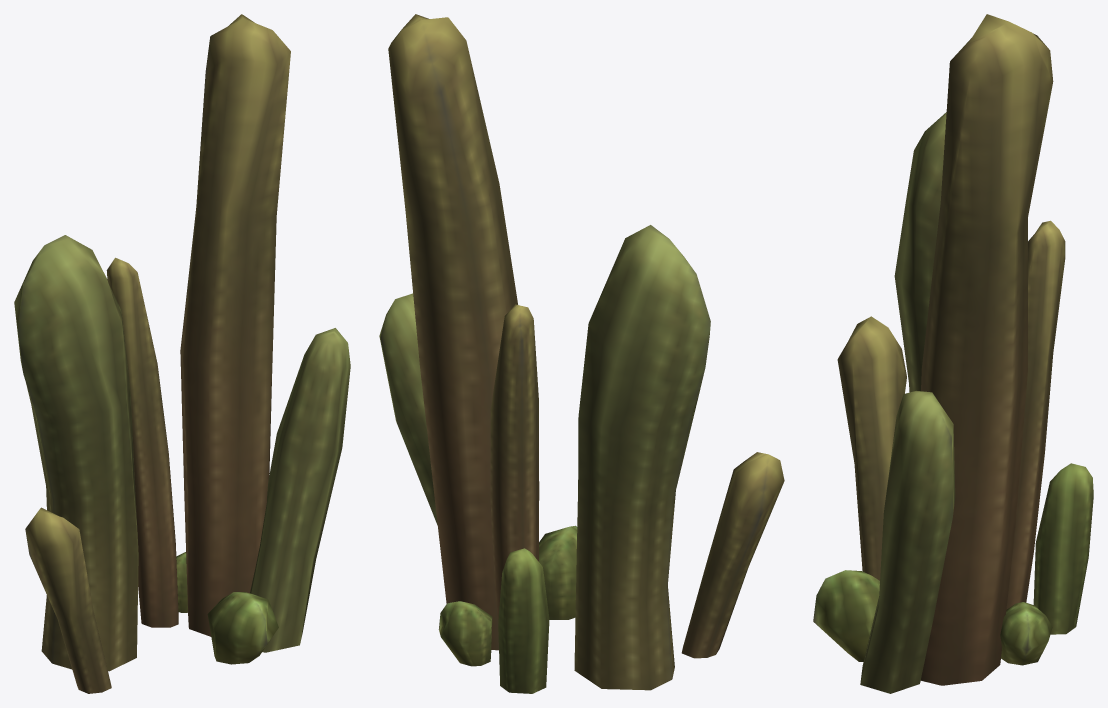
Rendered from Fairy stick_05.fbx.
3 renders of one model, left to right at view 1: azimuth 30°, elevation 25°; view 2: azimuth 150°, elevation 25°; view 3: azimuth 270°, elevation 25°, orthographic. The views are drawn at different scales.
Visible parts, largest first — view 1: Fairy stick_05; view 2: Fairy stick_05; view 3: Fairy stick_05.
Boxes of the visible parts, x1,y1,x2,y2 form: Fairy stick_05: (14,14,350,693); Fairy stick_05: (379,14,784,693); Fairy stick_05: (813,14,1093,693).
Bounding box in the file's own units: 164 × 266 × 101.
Materials: 1 (1 with a texture image).
